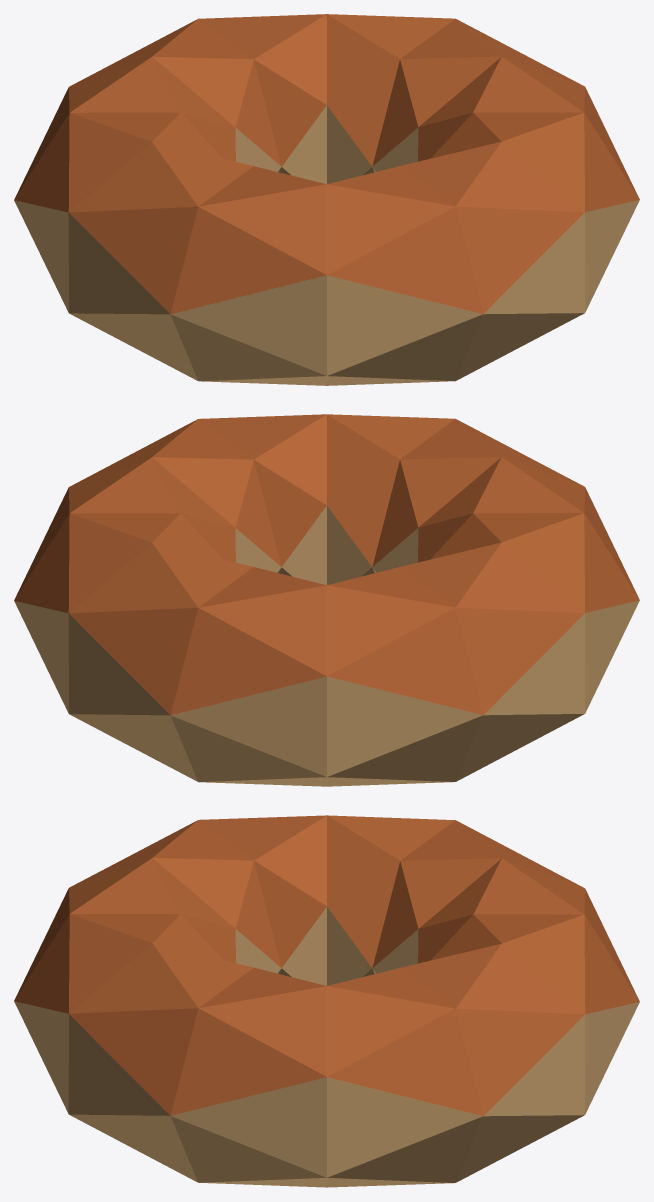
Rendered from doughnut.fbx.
3 renders of one model, top to bottom at view 1: azimuth 30°, elevation 25°; view 2: azimuth 150°, elevation 25°; view 3: azimuth 270°, elevation 25°, orthographic.
Parts seen in each view (by area): view 1: dougnut; view 2: dougnut; view 3: dougnut.
Boxes of the visible parts, x1,y1,x2,y2 form: dougnut: (14,14,639,385); dougnut: (14,414,639,786); dougnut: (14,815,639,1187).
Size of the model in its own units: 8.94 by 3.34 by 9.39.
